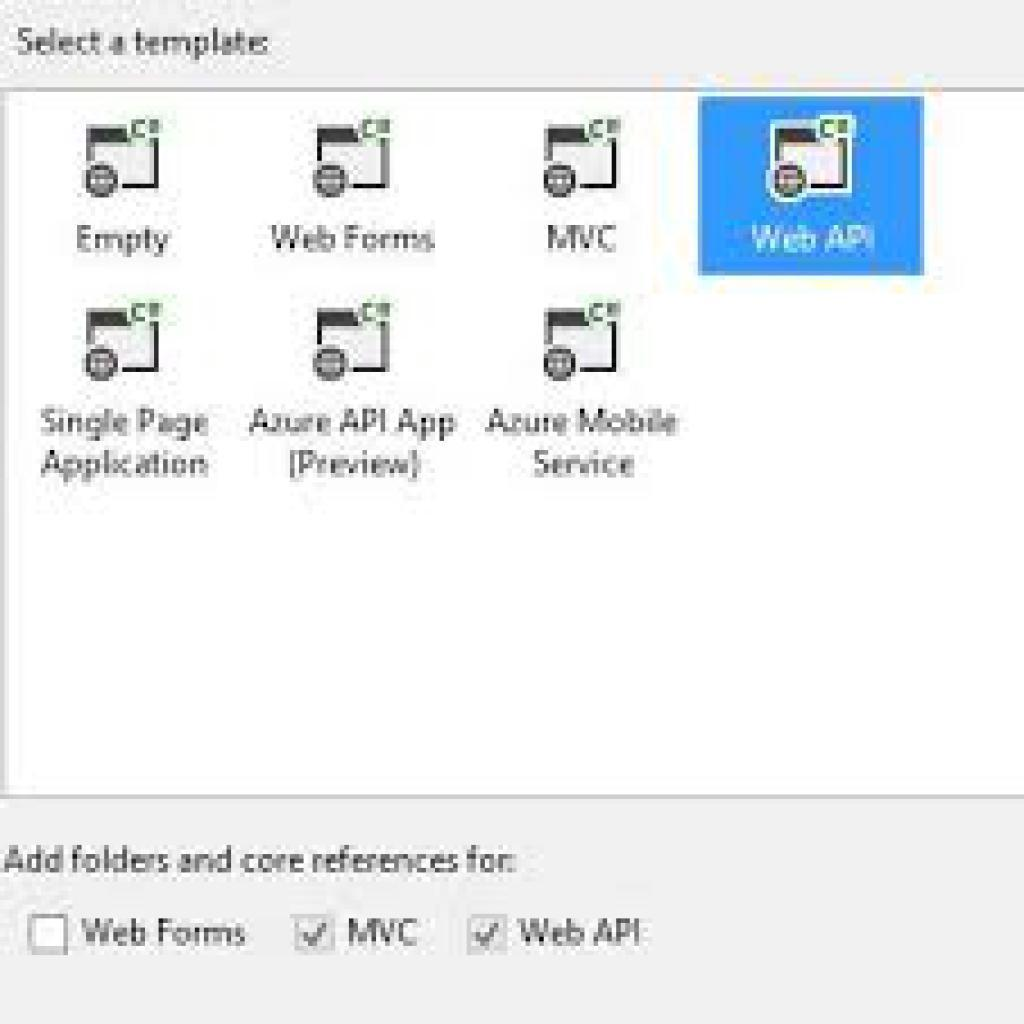checkbox: (296, 916, 336, 957), (30, 916, 71, 954), (467, 915, 507, 953)
